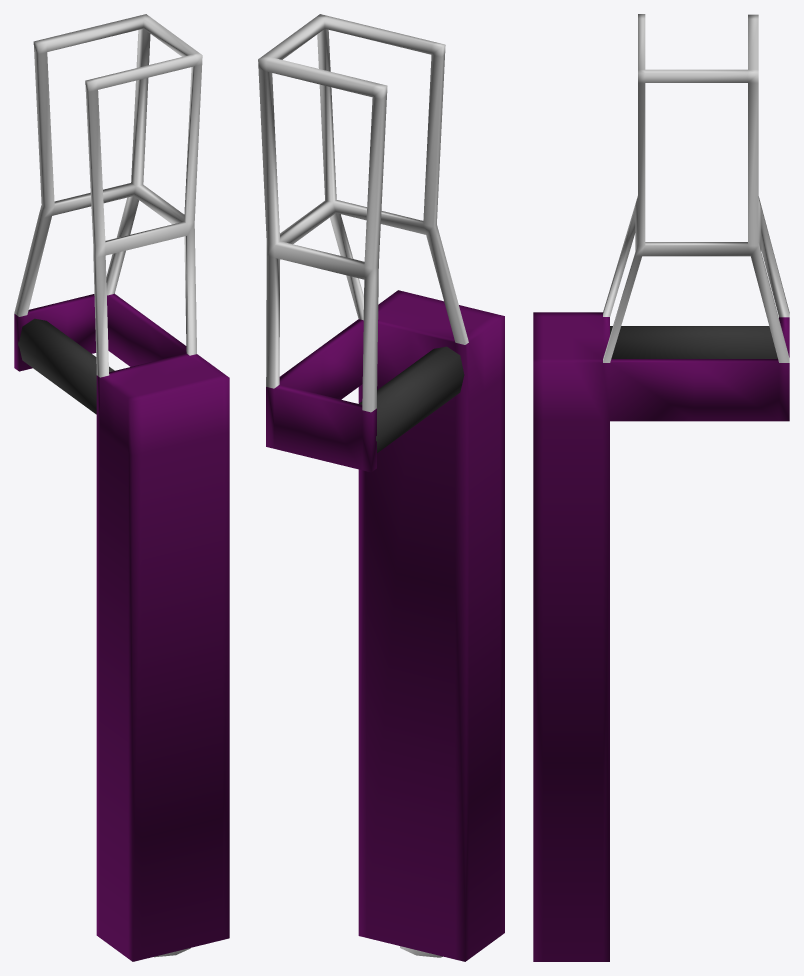
Rendered from MechPHGunLeft01.dae.
3 renders of one model, left to right at view 1: azimuth 30°, elevation 25°; view 2: azimuth 150°, elevation 25°; view 3: azimuth 270°, elevation 25°, orthographic. The views are drawn at different scales.
Visible parts, largest first — view 1: MechPHGunLeft01; view 2: MechPHGunLeft01; view 3: MechPHGunLeft01.
Boxes of the visible parts, x1,y1,x2,y2 form: MechPHGunLeft01: [14, 14, 229, 961]; MechPHGunLeft01: [258, 14, 504, 961]; MechPHGunLeft01: [533, 14, 789, 961].
Bounding box in the file's own units: 0.4366 × 0.7633 × 2.99.
